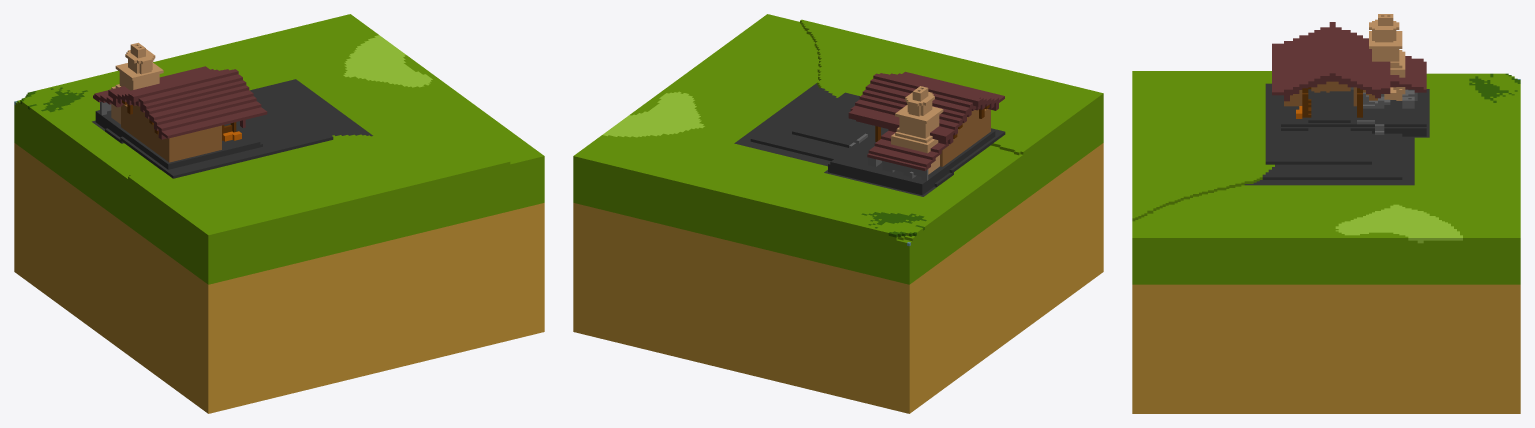
The picture shows the model from 3 angles, left to right: view 1: azimuth 30°, elevation 25°; view 2: azimuth 150°, elevation 25°; view 3: azimuth 270°, elevation 25°; orthographic projection.
Visible parts, largest first — view 1: 4D; view 2: 4D; view 3: 4D.
Boxes of the visible parts, x1,y1,x2,y2 form: 4D: (14, 14, 544, 413); 4D: (573, 14, 1103, 413); 4D: (1132, 14, 1520, 413).
Size of the model in its own units: 12.8 by 9.5 by 12.8.
1 material, 1 textured.
